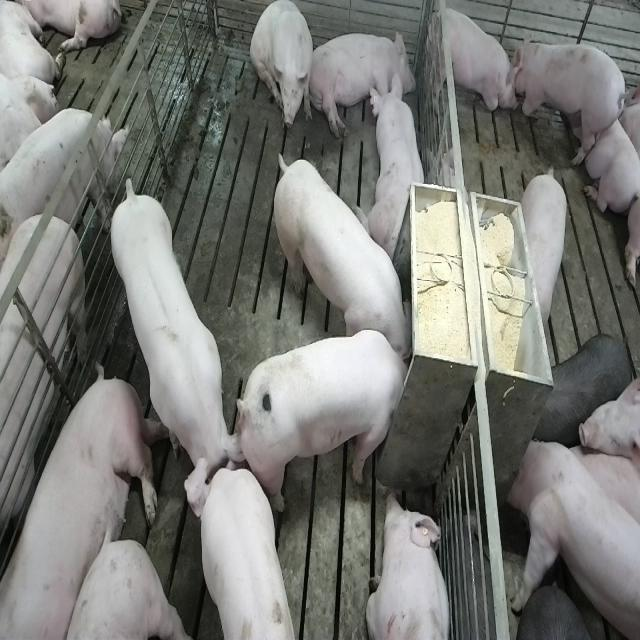Feeding: (243, 328, 419, 514), (269, 145, 411, 360)
Lateral_lying: (307, 26, 417, 140)
Sitting: (422, 0, 515, 124), (251, 2, 315, 138)
Standing: (108, 175, 246, 517), (0, 206, 88, 622), (506, 438, 638, 640), (189, 465, 300, 640), (0, 104, 126, 257), (511, 27, 626, 167), (536, 331, 632, 445), (522, 160, 572, 322)
Sternal_lying: (361, 73, 432, 260), (366, 490, 453, 640), (568, 83, 638, 212)
